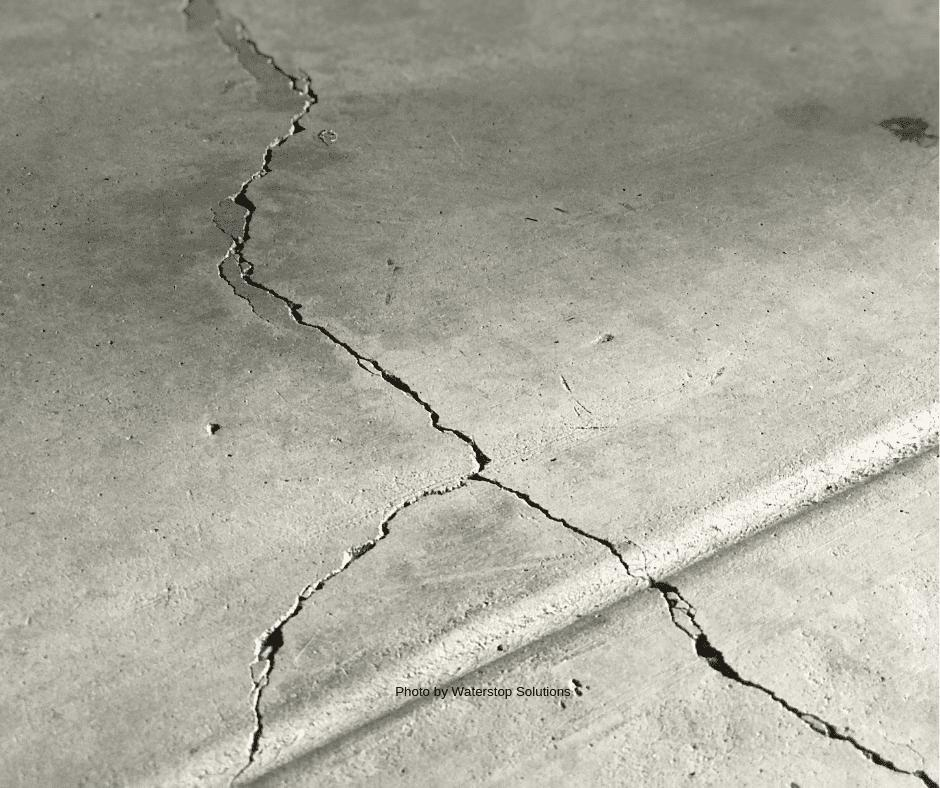Crack: (190, 154, 860, 710)
